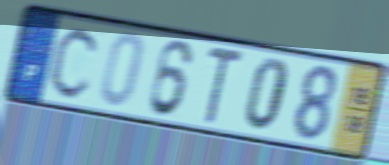0: (96, 30, 146, 112), (241, 55, 290, 134)
6: (147, 37, 194, 121)
8: (291, 63, 339, 144)
C: (47, 24, 103, 102)
T: (200, 43, 246, 127)
